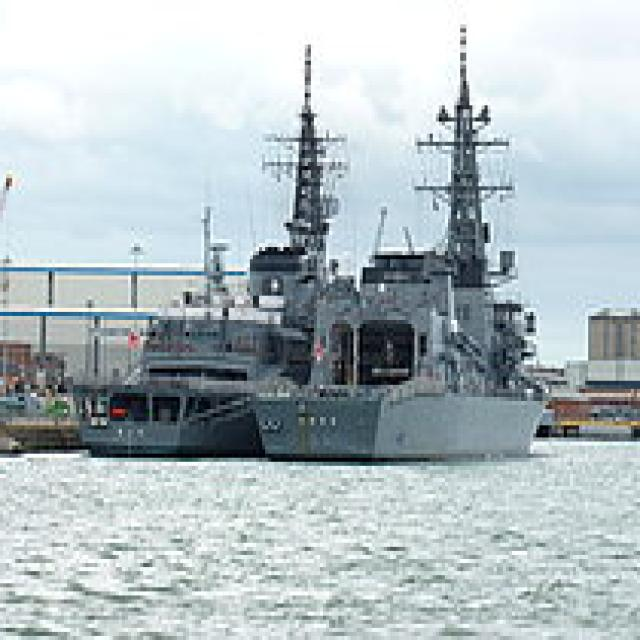Warship: (259, 16, 555, 462), (73, 28, 360, 458)
